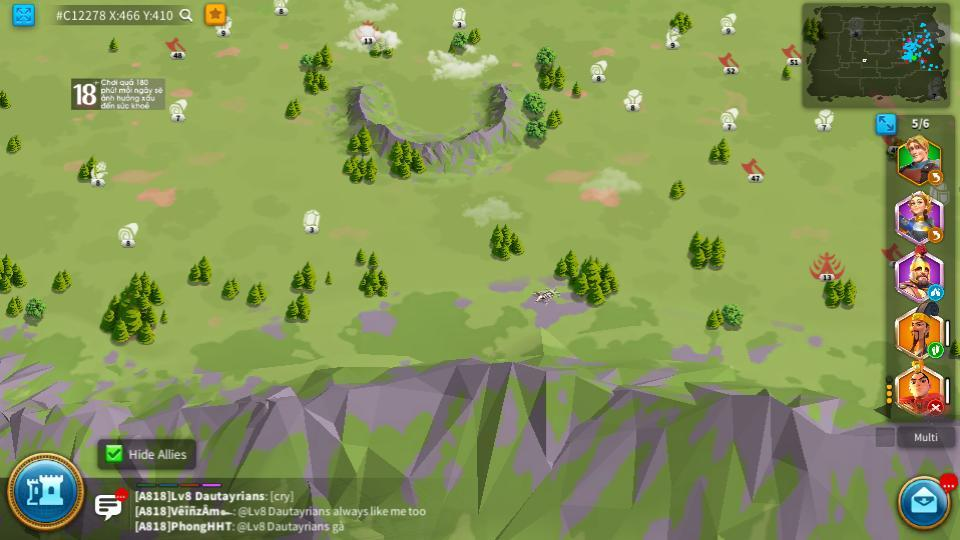gem-z-out: (302, 210, 321, 232), (451, 7, 468, 26)
march_attacking: (926, 402, 945, 414)
march_idle: (929, 284, 942, 299)
march_marching: (928, 345, 942, 358)
march_returning: (926, 229, 943, 242), (928, 170, 942, 183)
